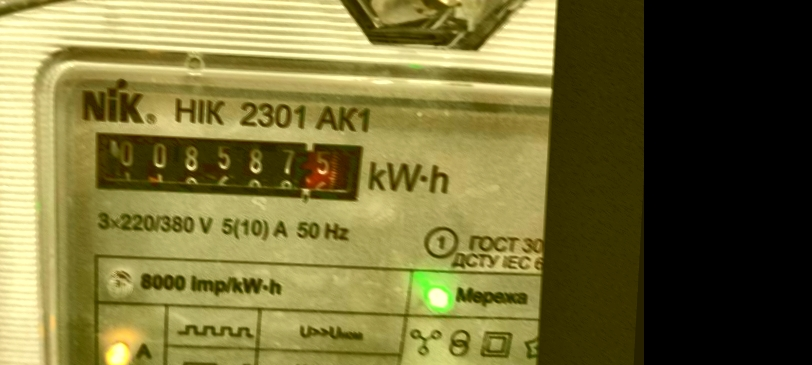0: (116, 137, 135, 167), (150, 140, 169, 169)
5: (314, 148, 333, 178), (214, 143, 233, 172)
7: (278, 145, 297, 176)
8: (246, 145, 265, 175), (182, 143, 200, 172)
screen: (75, 115, 381, 215)
